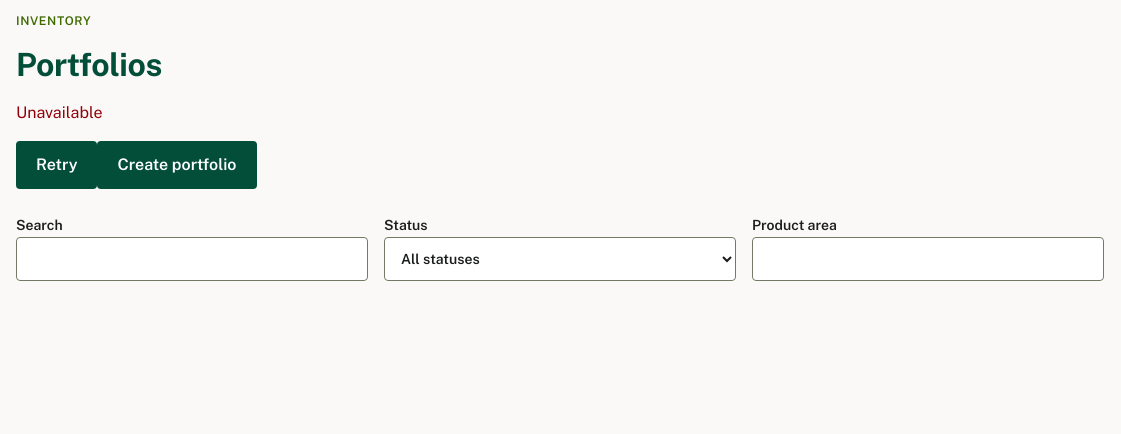
Test: shows a server error and permits retry
Expected: the message reads "Unavailable", [16,103,102,122]
Click the button "Retry": x=57, y=165 [16,141,98,189]
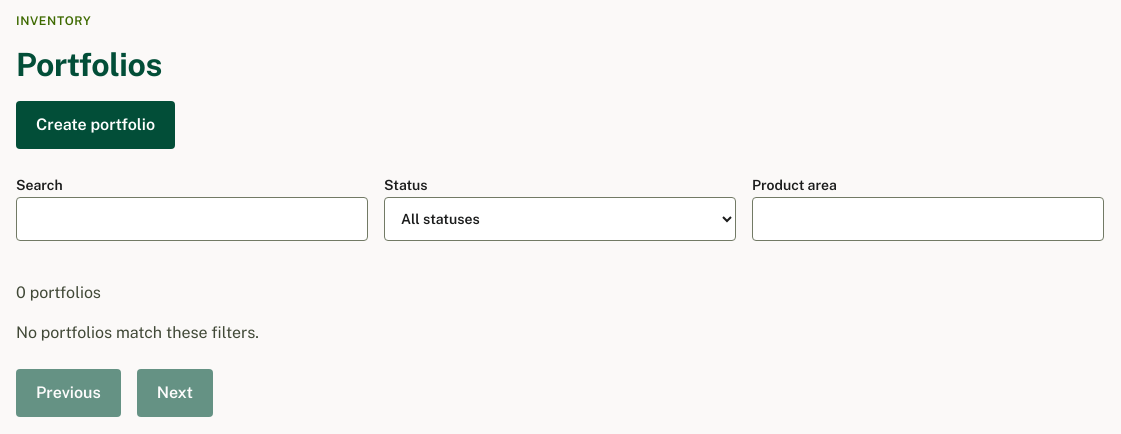
Now the text "No portfolios match these filters." is shown, box [16,323,259,342]
